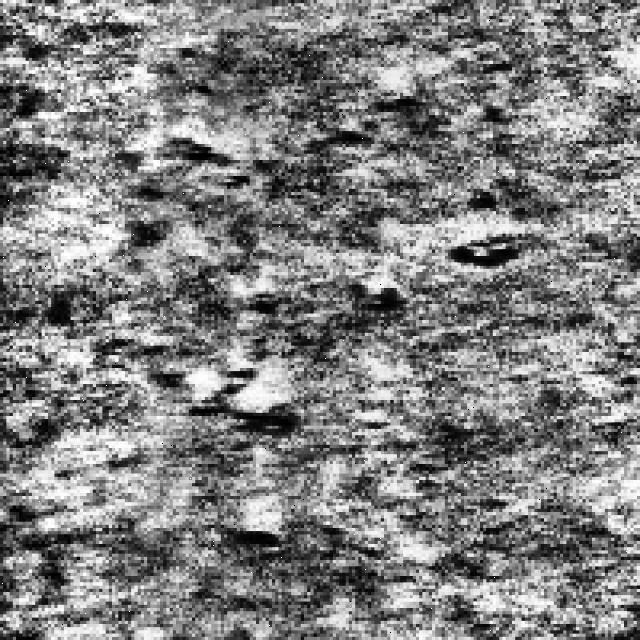Crazing: (100, 125, 294, 548), (333, 204, 531, 314)
